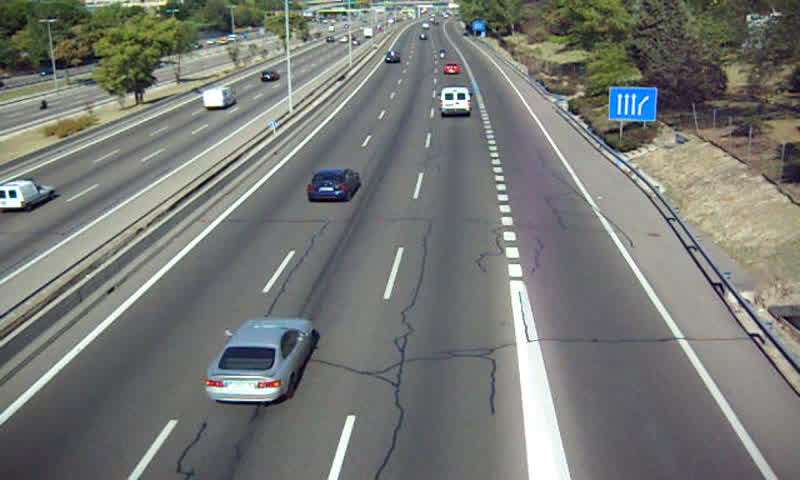car: (204, 317, 320, 405), (307, 169, 360, 202), (383, 51, 401, 66), (442, 64, 462, 77)
van: (440, 88, 469, 116)
